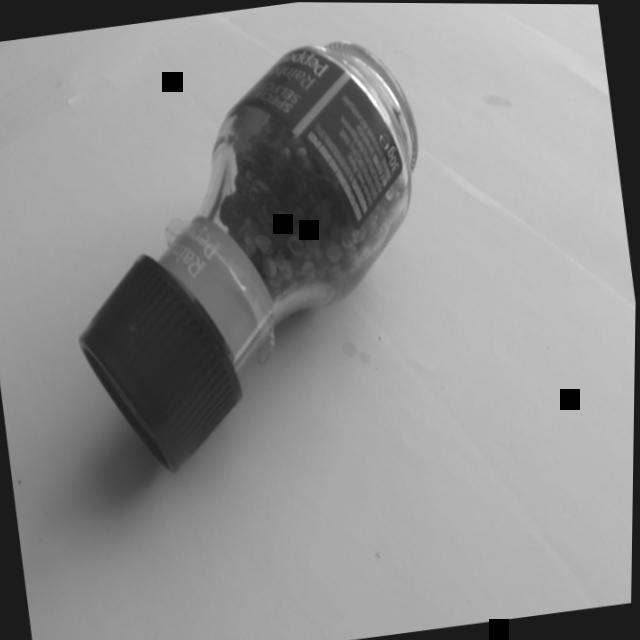Blackpepper: (16, 14, 473, 505)
